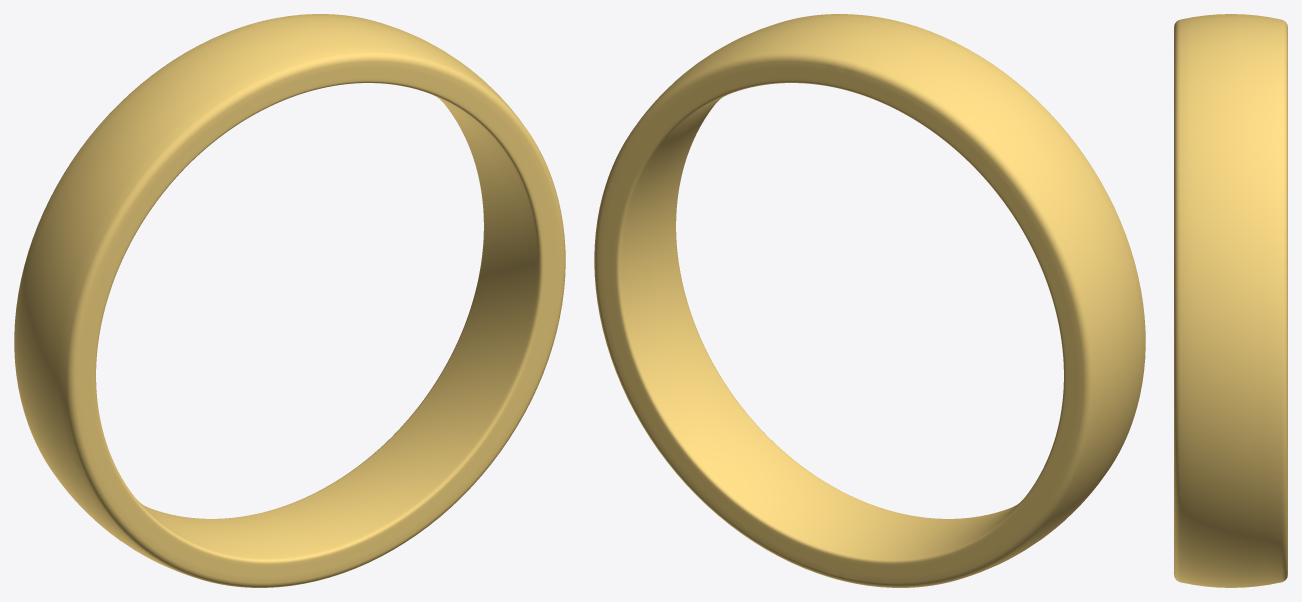
File: LiamYG_blender.glb
3 views of the same model, side by side, from view 1: azimuth 30°, elevation 25°; view 2: azimuth 150°, elevation 25°; view 3: azimuth 270°, elevation 25° (orthographic). The views are drawn at different scales.
Parts seen in each view (by area): view 1: Liam YG for 3d model; view 2: Liam YG for 3d model; view 3: Liam YG for 3d model.
Boxes of the visible parts, bbox=[...] form: Liam YG for 3d model: bbox=[14, 14, 565, 587]; Liam YG for 3d model: bbox=[594, 14, 1145, 587]; Liam YG for 3d model: bbox=[1174, 14, 1287, 587].
Size of the model in its own units: 22.18 by 22.18 by 4.4.
